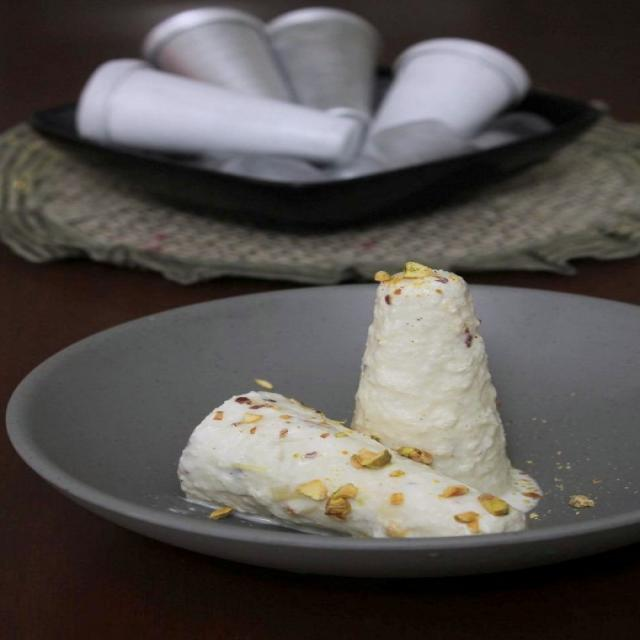kulfi: (110, 245, 568, 542)
